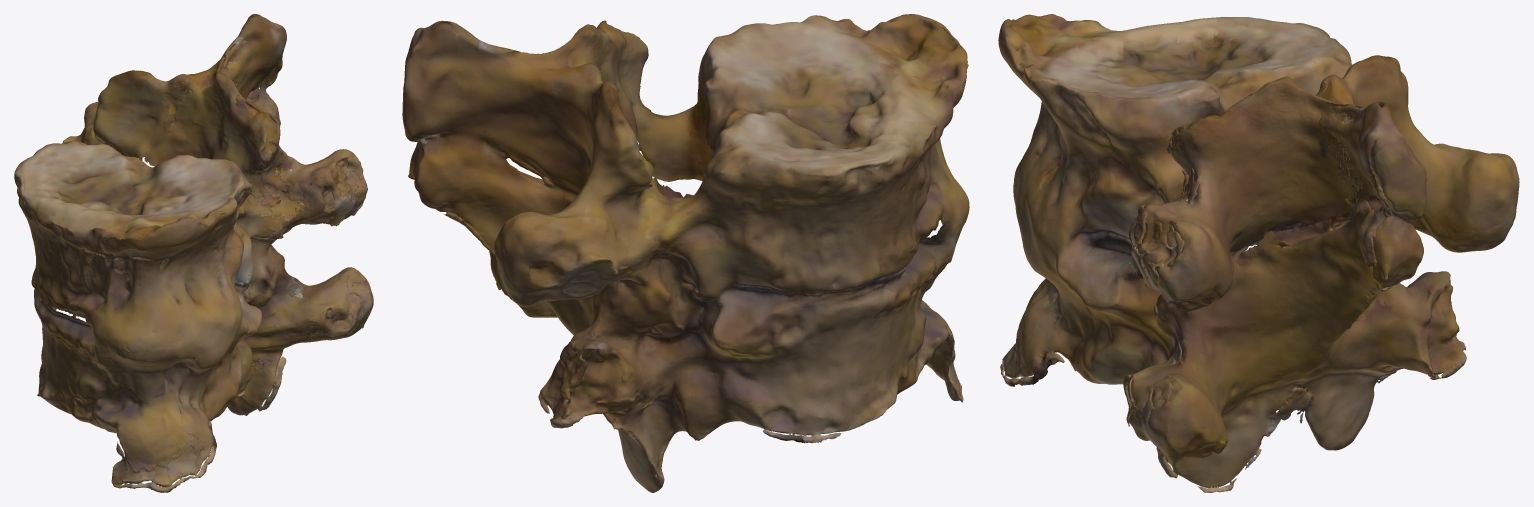
The model's file is vertebra1-web.glb.
The picture shows the model from 3 angles, left to right: view 1: azimuth 30°, elevation 25°; view 2: azimuth 150°, elevation 25°; view 3: azimuth 270°, elevation 25°; orthographic projection. The views are drawn at different scales.
Visible parts, largest first — view 1: defaultobject; view 2: defaultobject; view 3: defaultobject.
Part boxes in pixels (<box>): defaultobject: <box>14,14,373,492</box>; defaultobject: <box>402,14,969,492</box>; defaultobject: <box>998,14,1519,492</box>.
Size of the model in its own units: 63.24 by 62.12 by 66.86.
1 material, 1 textured.
